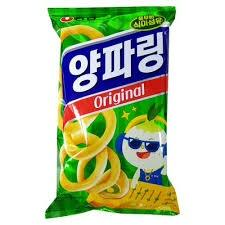snack: (44, 6, 181, 220)
